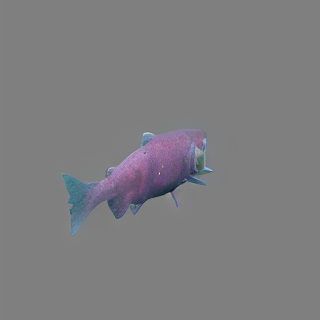Chinook salmon: (58, 122, 215, 237)
